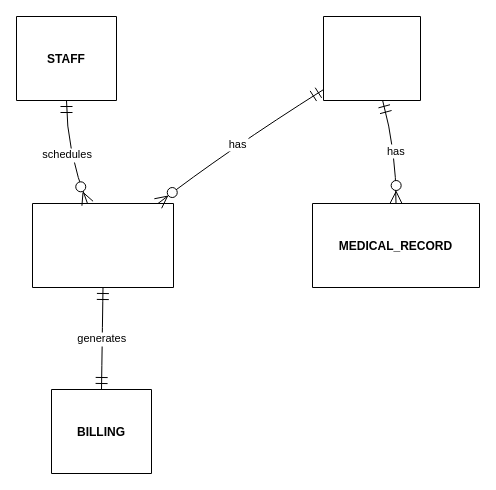
This 496x490 diagram has some shape labels left out. Each missing label, with the box of its shape:
APPOINTMENT: (32, 202, 174, 288)
PATIENT: (322, 16, 420, 100)
